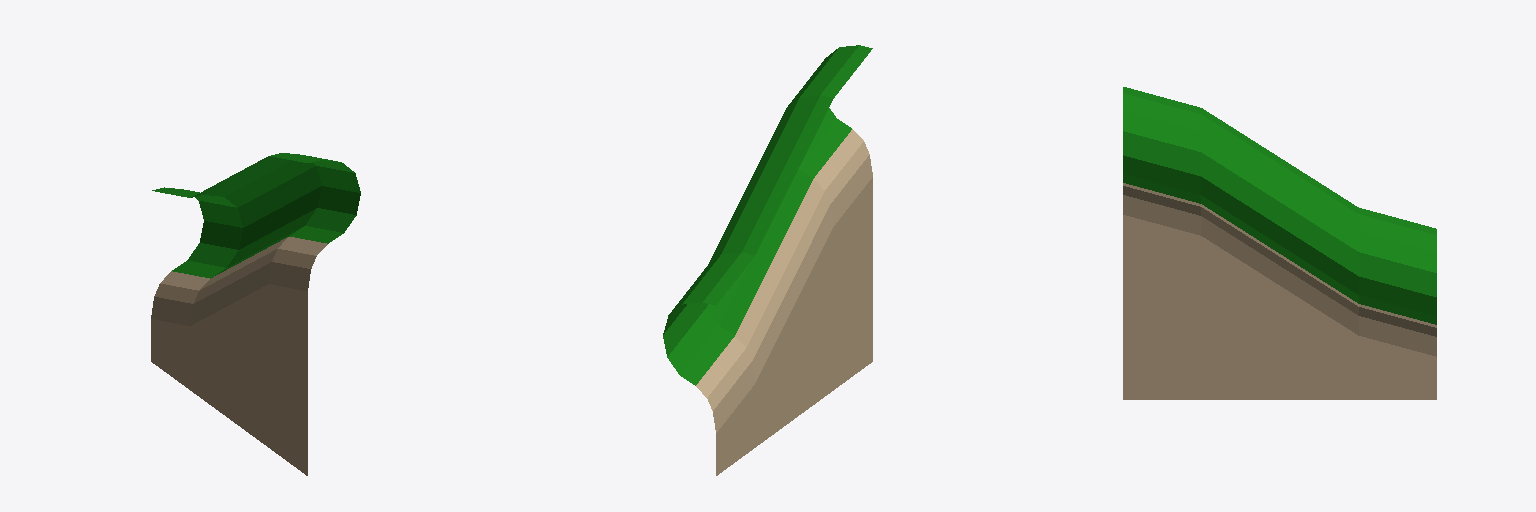
The model's file is Escarpment_Terrain_Hill_Top.obj.
The picture shows the model from 3 angles: view 1: azimuth 30°, elevation 25°; view 2: azimuth 150°, elevation 25°; view 3: azimuth 270°, elevation 25°; orthographic projection.
Parts seen in each view (by area): view 1: object1; view 2: object1; view 3: object1.
Boxes of the visible parts, x1=… form: object1: x1=151, y1=153, x2=360, y2=475; object1: x1=663, y1=45, x2=872, y2=475; object1: x1=1123, y1=87, x2=1436, y2=399.
Bounding box in the file's own units: 0.3909 × 2.2 × 2.